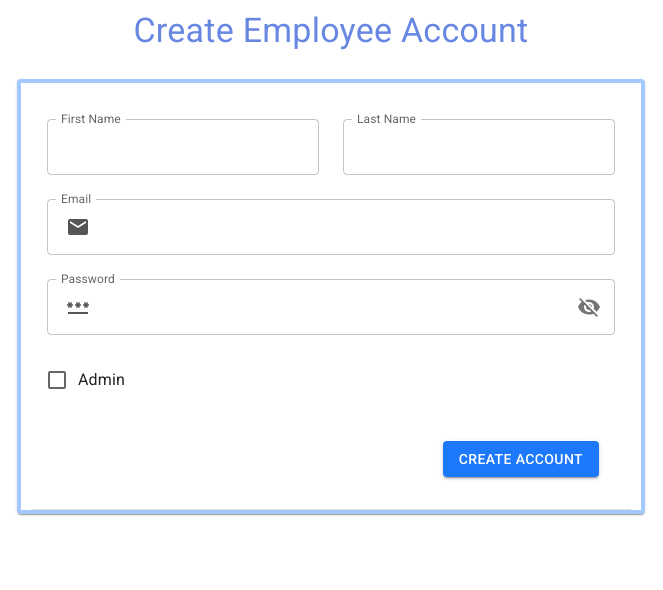
SignupForm › should show an error when the first name is shorter than 3 characters
This screenshot has width=663, height=590.
# We click on the create account button
Click the button "Create account" at (521, 459), box [443, 441, 599, 477]
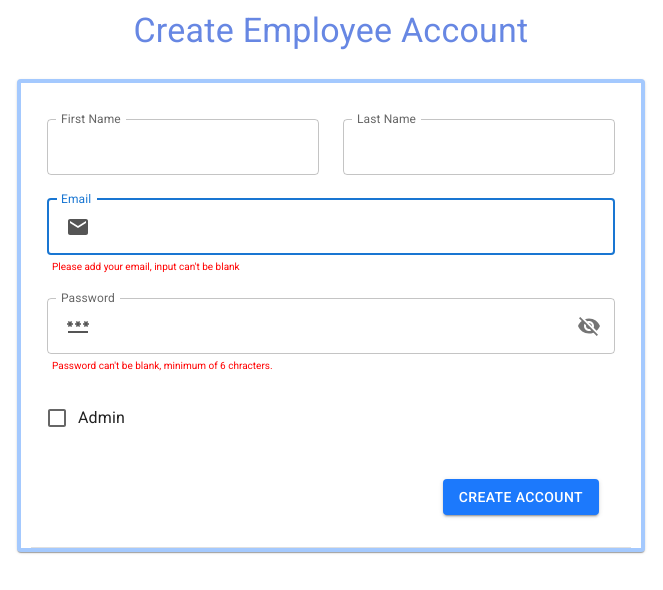
# We type in a first name that's too short
Type "hi" into the field labelled "First Name" at (188, 147), box [79, 119, 297, 175]
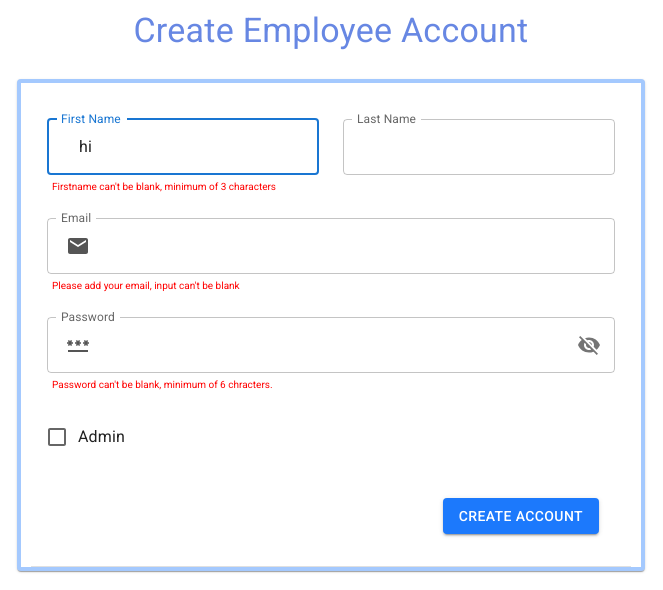
Now the text "Firstname can't be blank, minimum of 3 characters" is shown, box [47, 181, 281, 192]
